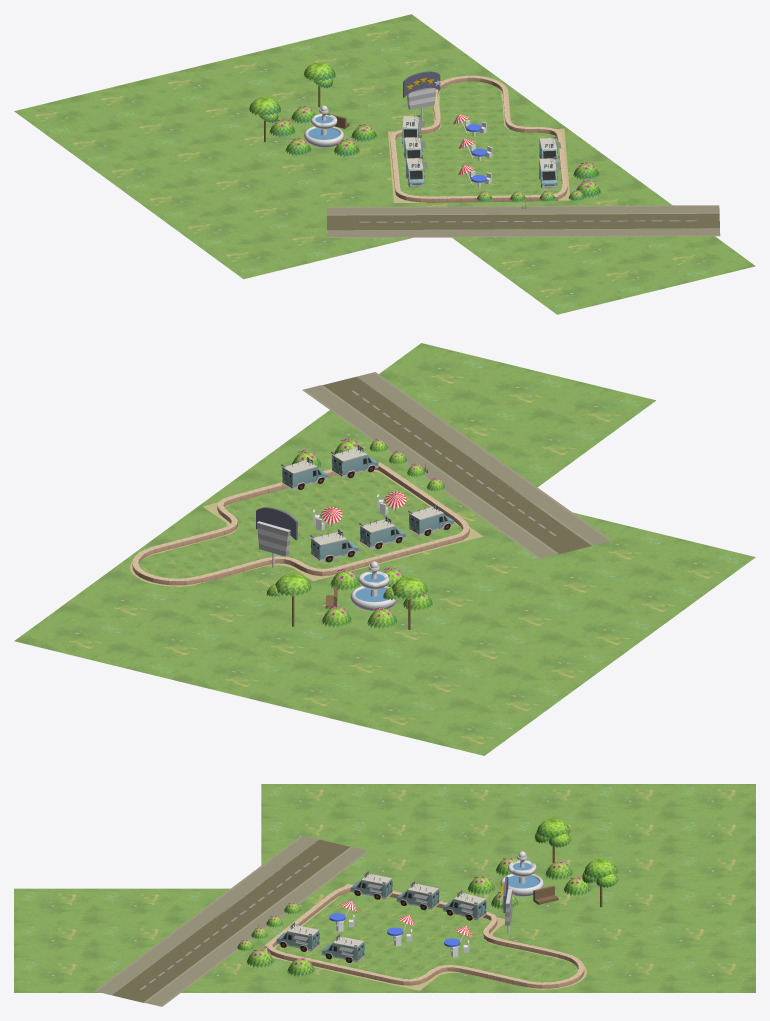
Rendered from main scene .fbx.
The picture shows the model from 3 angles, top to bottom: view 1: azimuth 30°, elevation 25°; view 2: azimuth 150°, elevation 25°; view 3: azimuth 270°, elevation 25°; orthographic projection. The views are drawn at different scales.
Parts seen in each view (by area): view 1: Plane.011, Plane.002, Plane.010, Plane.058, Plane.050, Plane.026, Plane.057, Cube.012, Circle.006, Cylinder.001, Circle.008, Cylinder.011 (+3 smaller); view 2: Plane.011, Plane.002, Plane.010, Plane.058, Plane.050, Plane.026, Plane.057, Cube.012, Circle.006, Cylinder.001, Circle.008, van.005 (+6 smaller); view 3: Plane.011, Plane.010, Plane.002, Plane.058, Plane.050, Plane.026, Plane.057, Cube.012, Circle.006, Circle.008, van.005, Cylinder.011 (+14 smaller).
Part boxes in pixels (x1,y1,x2,y2): Plane.011: (14,62,322,194); Plane.002: (129,147,412,279); Plane.010: (213,14,525,140); Plane.058: (452,182,755,314); Plane.050: (326,205,720,237); Plane.026: (388,94,570,202); Plane.057: (329,98,640,206); Cube.012: (390,75,567,202); Circle.006: (437,81,503,110); Cylinder.001: (403,71,440,120); Circle.008: (304,105,343,147); Cylinder.011: (304,62,335,107); Plane.011: (249,602,619,755); Plane.002: (396,512,755,656); Plane.010: (14,542,368,698); Plane.058: (286,343,655,487); Plane.050: (302,372,611,558); Plane.026: (175,469,482,586); Plane.057: (150,442,488,591); Cube.012: (132,462,469,585); Circle.006: (130,548,220,586); Cylinder.001: (256,507,297,567); Circle.008: (350,561,397,611); van.005: (310,529,359,562); Plane.011: (508,784,755,888); Plane.010: (508,888,755,992); Plane.002: (261,784,508,888); Plane.058: (14,888,261,992); Plane.050: (94,835,369,1006); Plane.026: (264,883,546,990); Plane.057: (261,888,508,992); Cube.012: (264,884,584,988); Circle.006: (505,954,586,989); Circle.008: (500,851,543,896); van.005: (443,890,486,920); Cylinder.011: (582,859,618,907).
Bounding box in the file's own units: 12.97 × 1.88 × 18.
